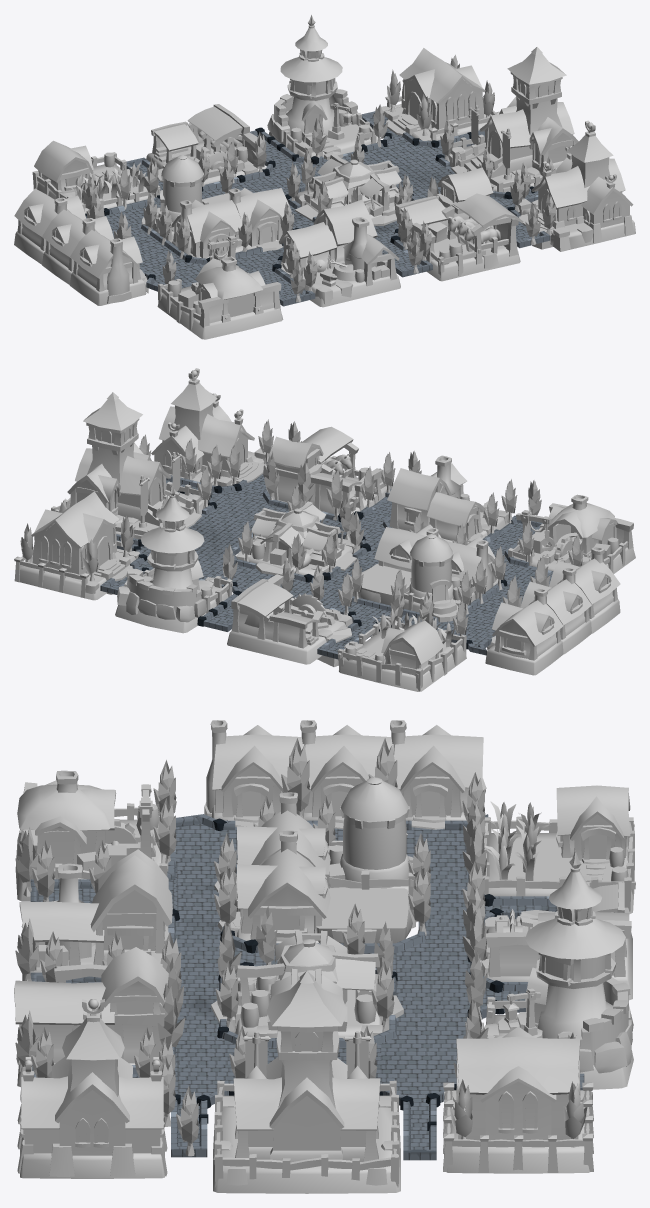
File: Town 4.FBX
The picture shows the model from 3 angles, top to bottom: view 1: azimuth 30°, elevation 25°; view 2: azimuth 150°, elevation 25°; view 3: azimuth 270°, elevation 25°; orthographic projection. The views are drawn at different scales.
Parts seen in each view (by area): view 1: Object003, Object027, TownHall, Stables, Temple, Blacksmith, MageTower, Workshop, Library, LumberMill, Farm, Market (+8 smaller); view 2: Object003, Object027, TownHall, Library, MageTower, LumberMill, Farm, Temple, Workshop, Blacksmith, Stables, Market (+9 smaller); view 3: Object027, TownHall, Object003, Library, Temple, MageTower, Farm, Blacksmith, Stables, Workshop, Market, Granary (+10 smaller).
Boxes of the visible parts, <box> form: Object003: <box>83,104,556,302</box>; Object027: <box>104,117,539,299</box>; TownHall: <box>445,47,578,192</box>; Stables: <box>395,167,523,281</box>; Temple: <box>518,120,635,251</box>; Blacksmith: <box>279,199,400,307</box>; MageTower: <box>267,15,377,159</box>; Workshop: <box>157,235,283,339</box>; Library: <box>381,48,499,140</box>; LumberMill: <box>146,104,265,184</box>; Farm: <box>32,140,160,213</box>; Market: <box>294,153,401,225</box>; Object003: <box>139,419,583,635</box>; Object027: <box>111,474,552,651</box>; TownHall: <box>51,392,207,539</box>; Library: <box>14,491,140,600</box>; MageTower: <box>115,484,232,633</box>; LumberMill: <box>227,574,352,666</box>; Farm: <box>337,607,466,691</box>; Temple: <box>151,368,269,486</box>; Workshop: <box>508,494,635,573</box>; Blacksmith: <box>387,455,508,543</box>; Stables: <box>268,426,392,513</box>; Market: <box>236,501,360,575</box>; Object027: <box>38,824,557,1149</box>; TownHall: <box>213,971,400,1193</box>; Object003: <box>15,738,488,1156</box>; Library: <box>443,1026,593,1173</box>; Temple: <box>17,999,167,1178</box>; MageTower: <box>481,850,633,1089</box>; Farm: <box>482,785,635,914</box>; Blacksmith: <box>19,849,172,980</box>; Stables: <box>14,947,168,1086</box>; Workshop: <box>15,770,169,901</box>; Market: <box>211,930,403,1037</box>; Granary: <box>325,777,416,928</box>.
Size of the model in its own units: 4.08 by 1.29 by 2.71.
